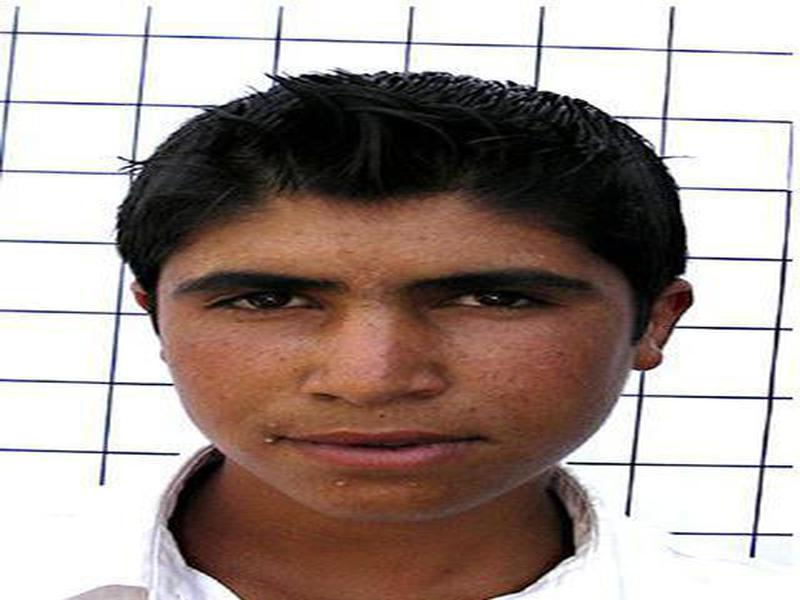without_mask: (129, 168, 629, 518)
